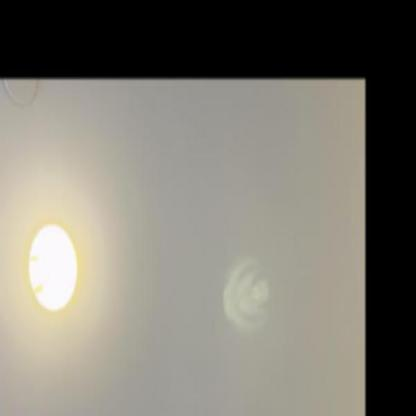light_on: (18, 209, 88, 327)
